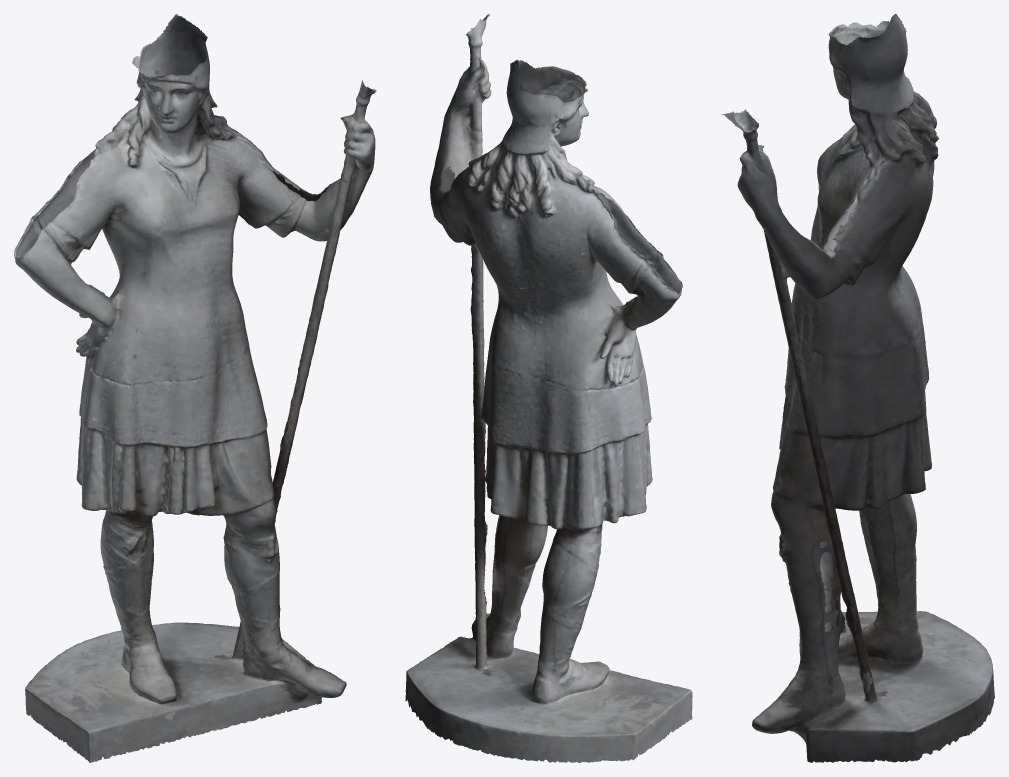
Rendered from preview.glb.
3 renders of one model, left to right at view 1: azimuth 30°, elevation 25°; view 2: azimuth 150°, elevation 25°; view 3: azimuth 270°, elevation 25°, orthographic. The views are drawn at different scales.
Parts seen in each view (by area): view 1: Object_2; view 2: Object_2; view 3: Object_2.
Part boxes in pixels (x1=…): Object_2: x1=14, y1=14, x2=376, y2=762; Object_2: x1=405, y1=14, x2=692, y2=762; Object_2: x1=721, y1=14, x2=994, y2=762.
Bounding box in the file's own units: 4562 × 9939 × 3536.
1 material, 1 textured.
